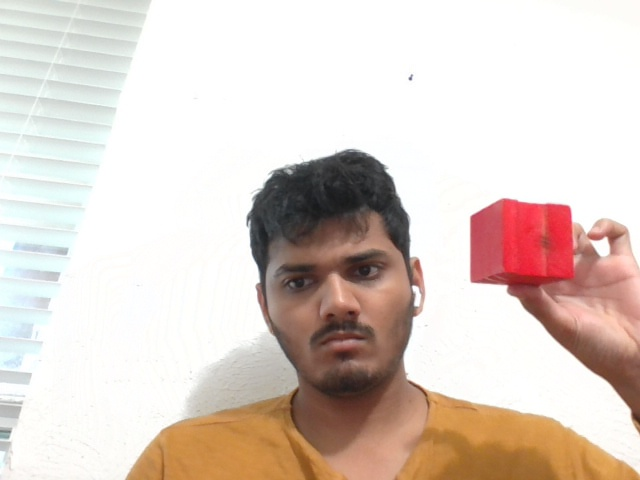RedBlock: (468, 196, 577, 286)
